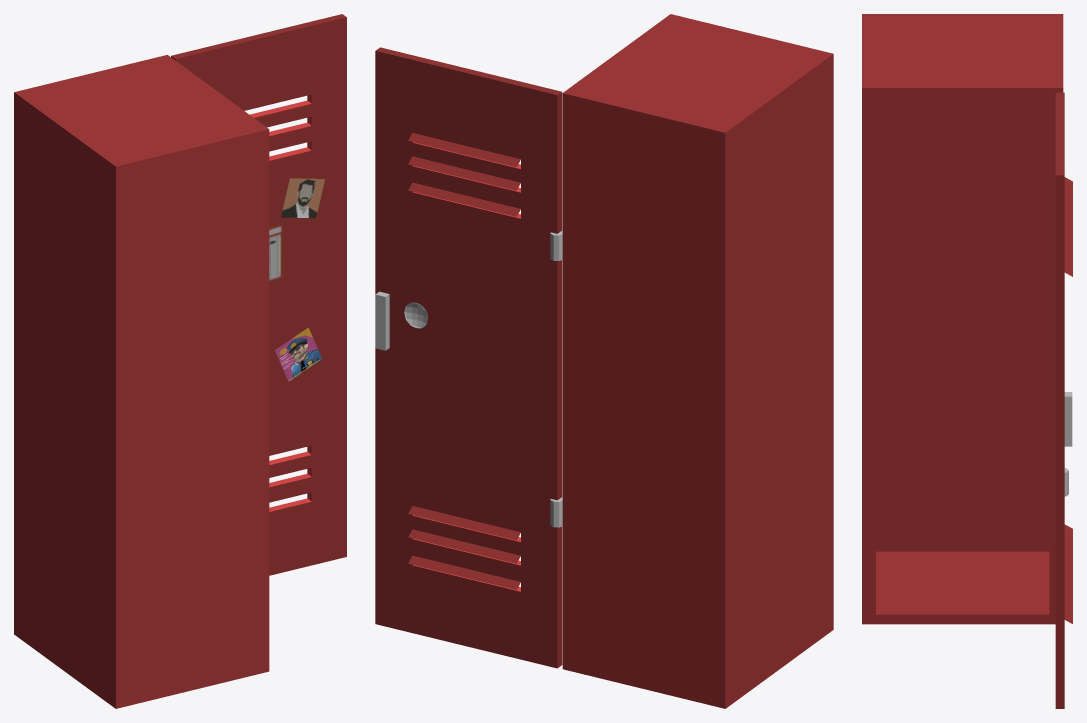
The model's file is Locker_Open.fbx.
The picture shows the model from 3 angles, left to right: view 1: azimuth 30°, elevation 25°; view 2: azimuth 150°, elevation 25°; view 3: azimuth 270°, elevation 25°; orthographic projection. The views are drawn at different scales.
Visible parts, largest first — view 1: Cube.001; view 2: Cube.001; view 3: Cube.001.
Boxes of the visible parts, box(x1,y1,x2,y2) form: Cube.001: box(14, 14, 346, 708); Cube.001: box(375, 14, 833, 708); Cube.001: box(862, 14, 1072, 708).
Bounding box in the file's own units: 6.86 × 10.81 × 3.85.
